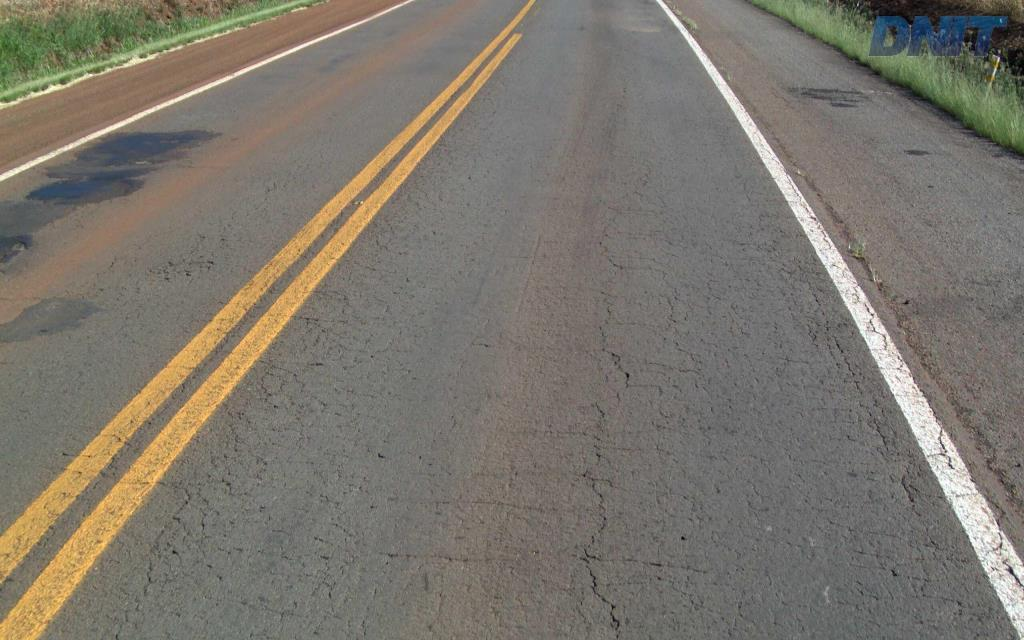crack: (571, 533, 622, 639)
